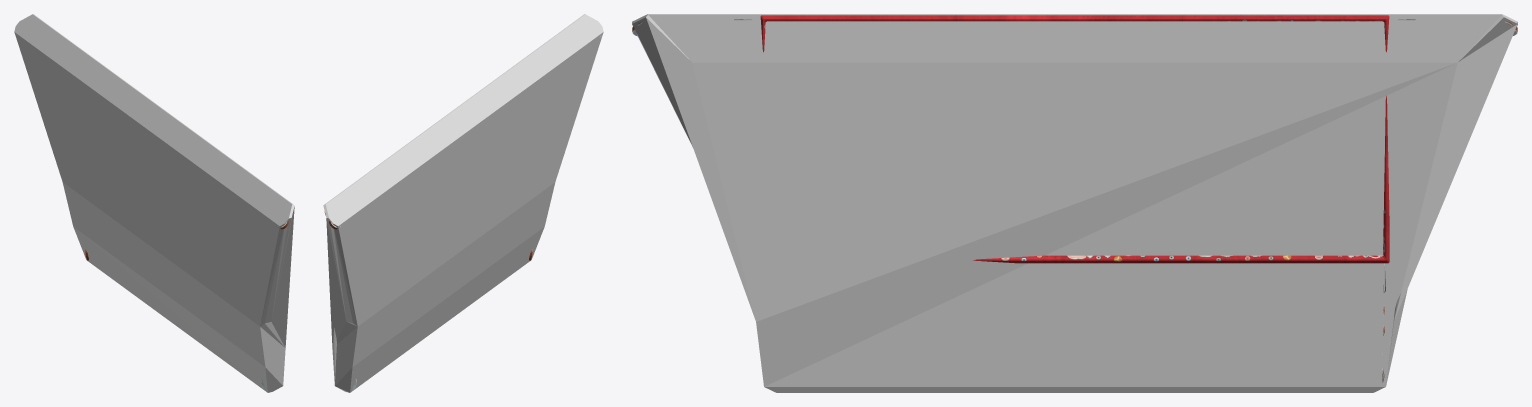
The model's file is SM_GCM_Stela.fbx.
3 renders of one model, left to right at view 1: azimuth 30°, elevation 25°; view 2: azimuth 150°, elevation 25°; view 3: azimuth 270°, elevation 25°, orthographic. The views are drawn at different scales.
Parts seen in each view (by area): view 1: SM_GCM_Stela_ConvexHulls; view 2: SM_GCM_Stela_ConvexHulls; view 3: SM_GCM_Stela_ConvexHulls, SM_GCM_Stela.
Part boxes in pixels (box(x1,y1,x2,y2)): SM_GCM_Stela_ConvexHulls: box(14, 14, 294, 392); SM_GCM_Stela_ConvexHulls: box(323, 14, 603, 392); SM_GCM_Stela_ConvexHulls: box(632, 14, 1517, 392); SM_GCM_Stela: box(632, 15, 1517, 383).
Bounding box in the file's own units: 30.87 × 157 × 346.
2 materials, 1 textured.
